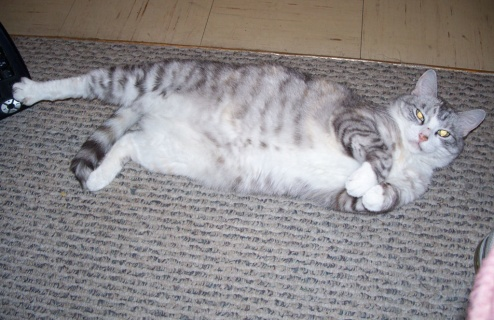Cat: (11, 61, 487, 216)
